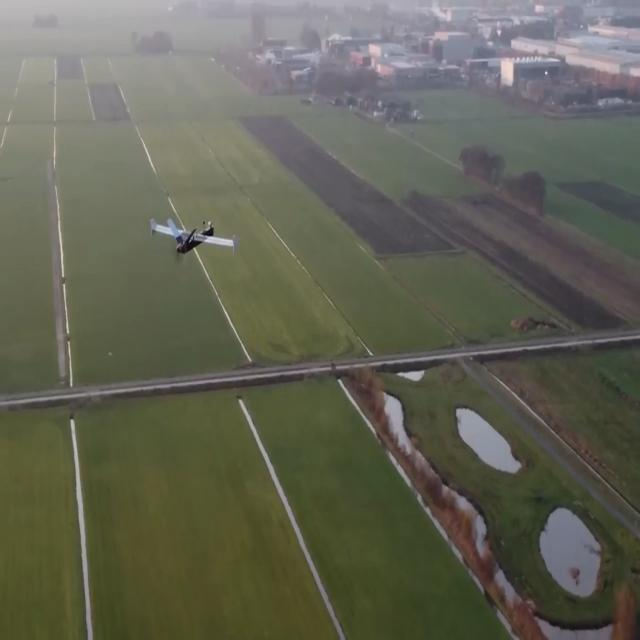iha: (182, 210, 207, 266)
